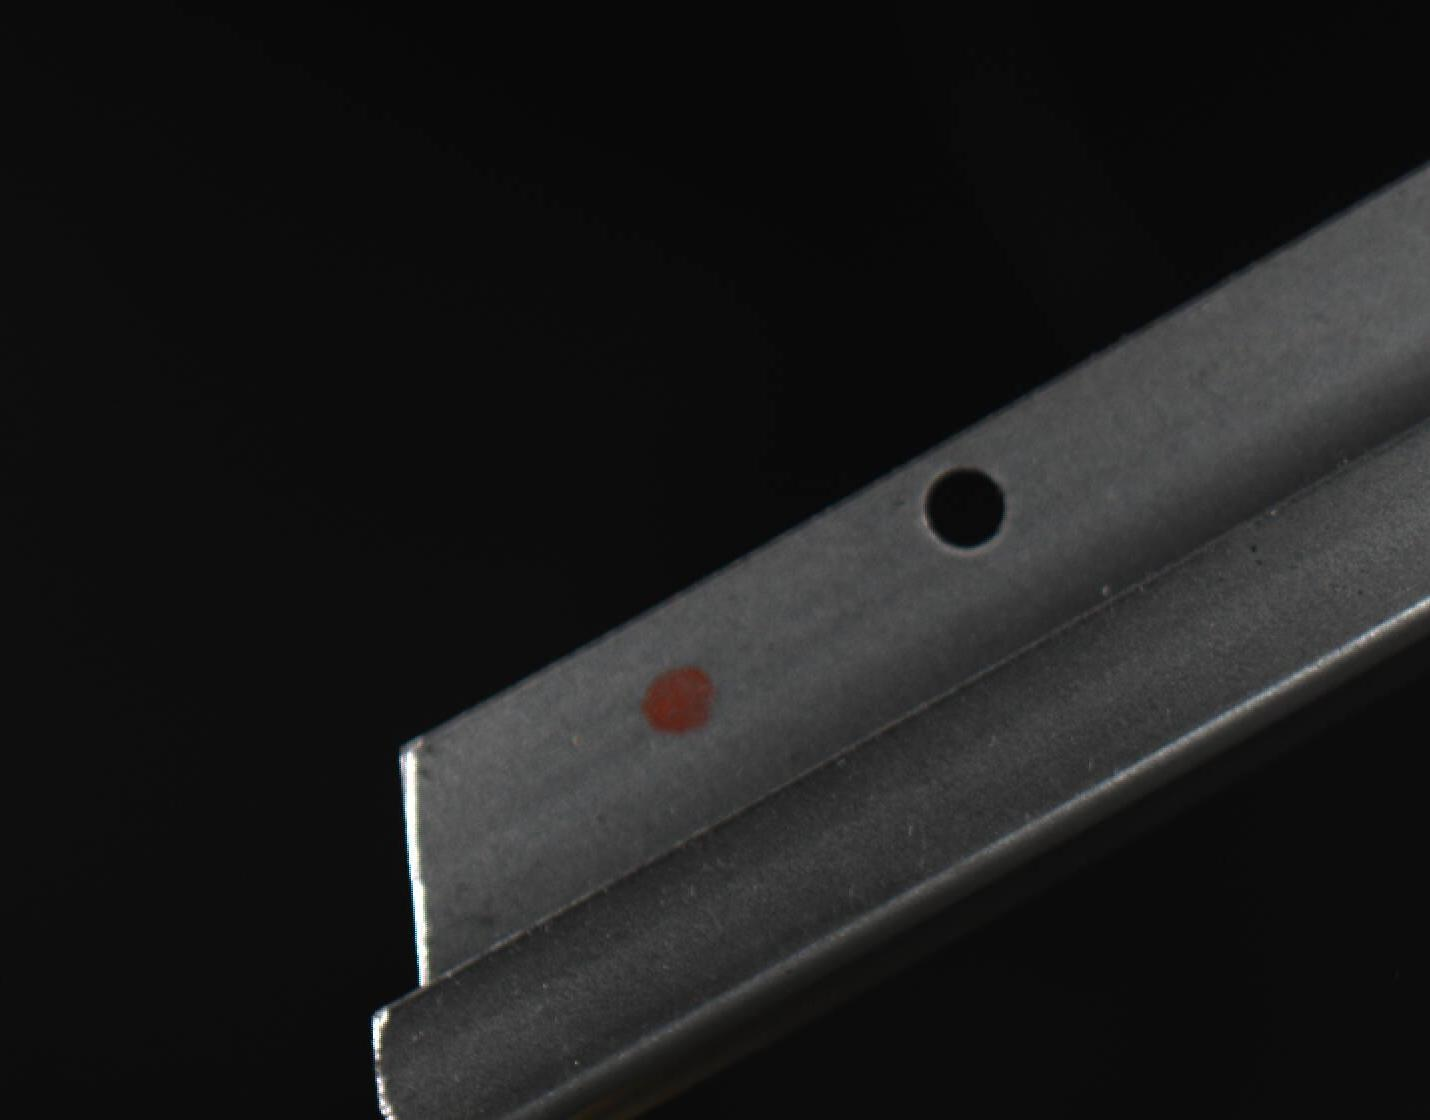cut: (318, 665, 754, 1117)
holes: (920, 465, 1011, 552)
